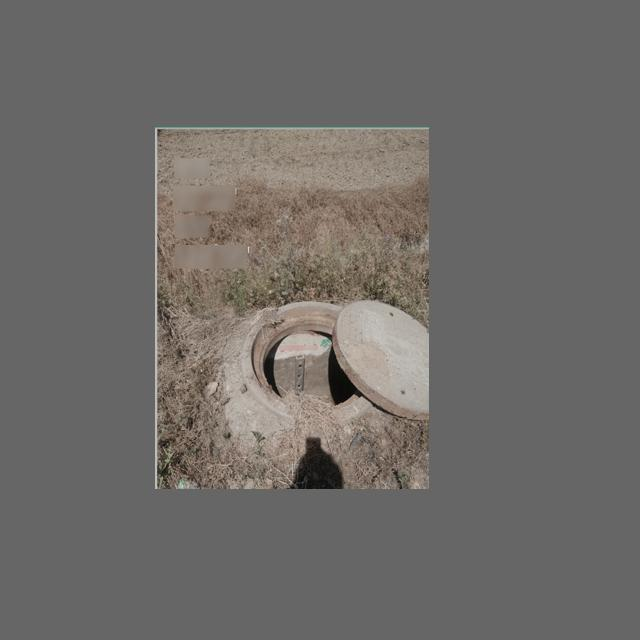uncovered: (236, 283, 429, 431)
